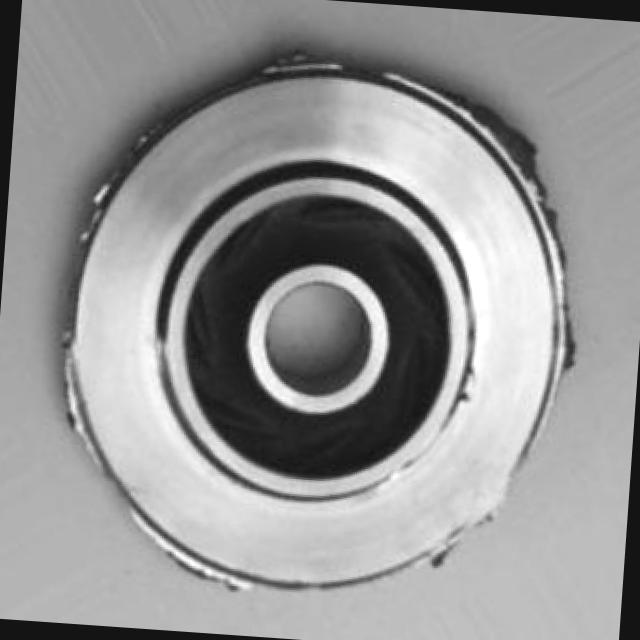Defect: (442, 84, 560, 210)
